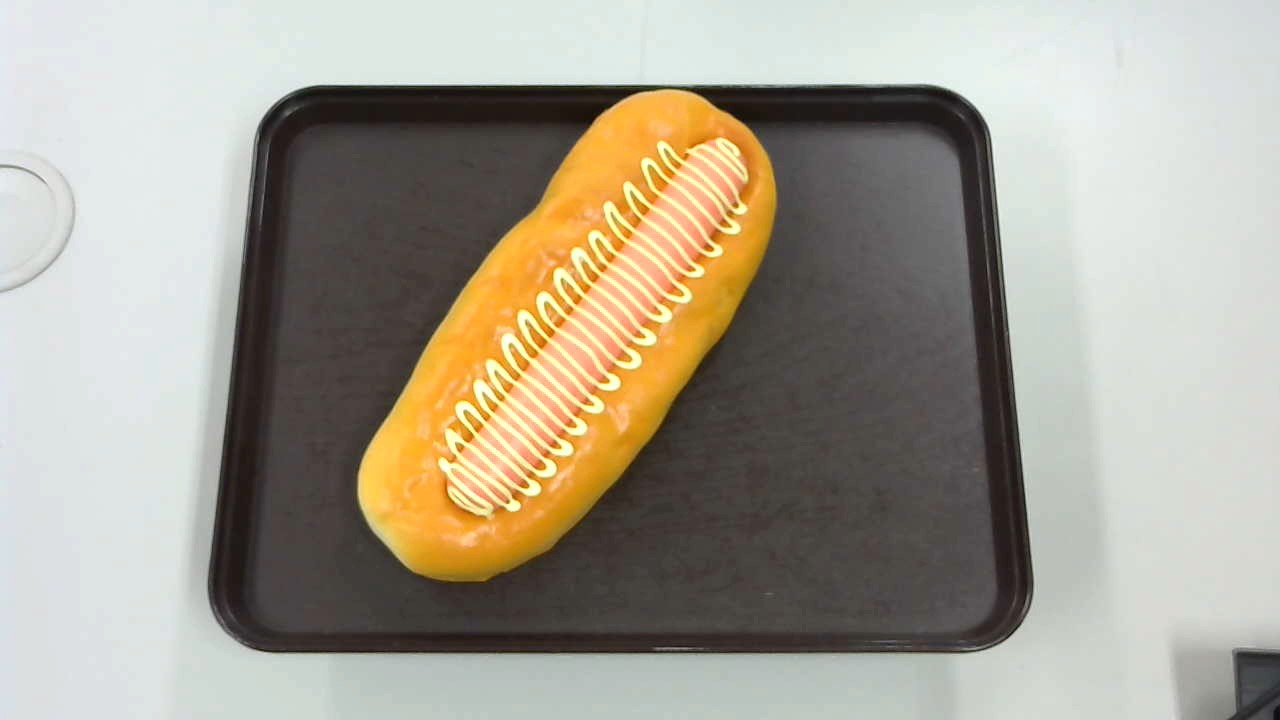hot dog: (355, 88, 777, 583)
